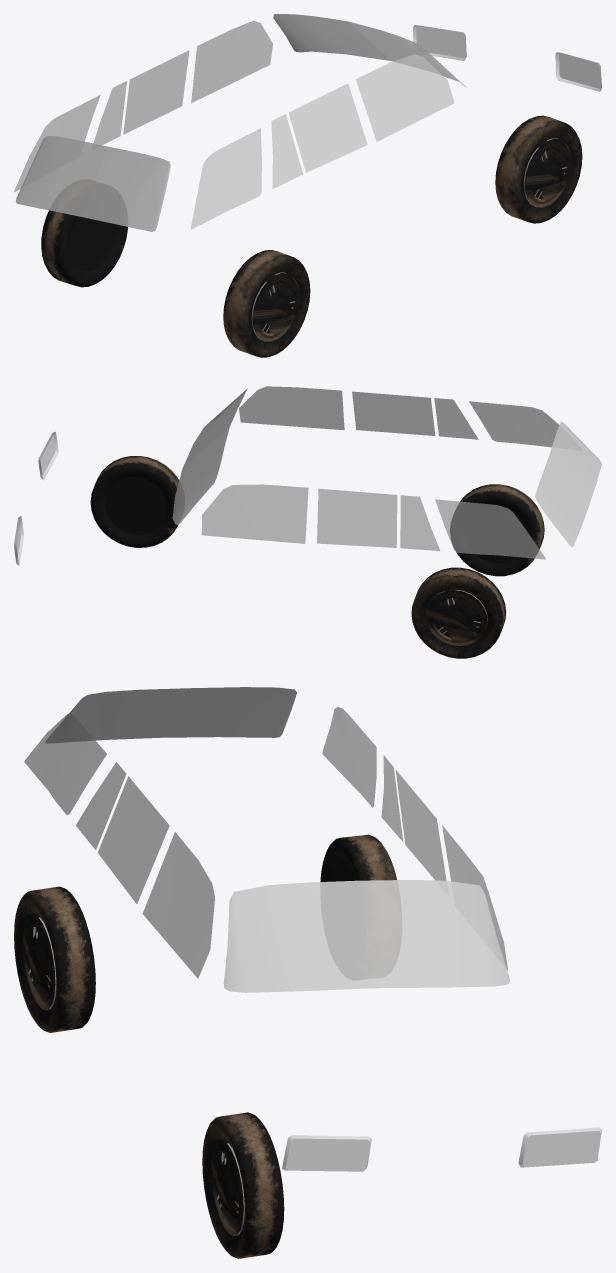
File: carro descompuesto 2.fbx
The picture shows the model from 3 angles, top to bottom: view 1: azimuth 30°, elevation 25°; view 2: azimuth 150°, elevation 25°; view 3: azimuth 270°, elevation 25°; orthographic projection. The views are drawn at different scales.
Visible parts, largest first — view 1: glass 1.001, Wheel 2.003, light; view 2: glass 1.001, Wheel 2.003, light; view 3: glass 1.001, Wheel 2.003, light.
Part boxes in pixels (left/top/right/bottom): glass 1.001: left=14, top=14, right=466, bottom=231; Wheel 2.003: left=41, top=115, right=582, bottom=357; light: left=413, top=25, right=601, bottom=91; glass 1.001: left=172, top=386, right=601, bottom=559; Wheel 2.003: left=90, top=456, right=544, bottom=658; light: left=14, top=431, right=58, bottom=565; glass 1.001: left=24, top=687, right=510, bottom=992; Wheel 2.003: left=14, top=834, right=396, bottom=1258; light: left=282, top=1127, right=601, bottom=1171.
Bounding box in the file's own units: 597 × 201 × 381.
